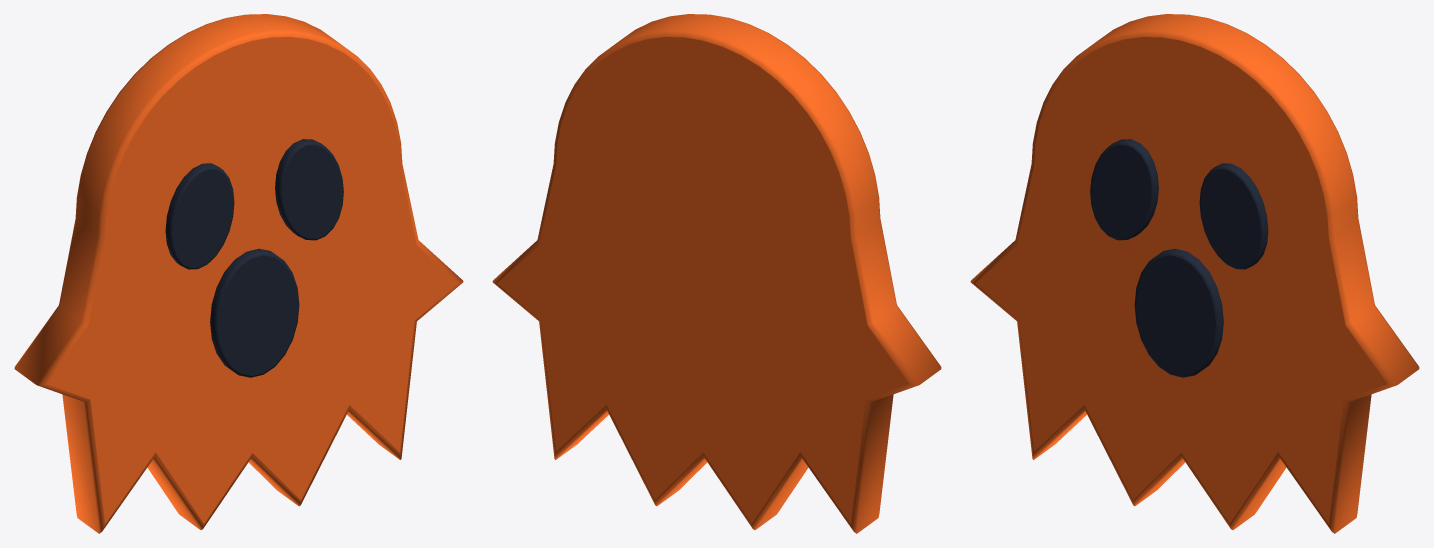
Rendered from player_ghost.glb.
3 views of the same model, side by side, from view 1: azimuth 30°, elevation 25°; view 2: azimuth 150°, elevation 25°; view 3: azimuth 330°, elevation 25° (orthographic).
Parts seen in each view (by area): view 1: Player Ghost drawn silhouette.001, Player Ghost open wail.001, Player Ghost left eye.001, Player Ghost right eye.001; view 2: Player Ghost drawn silhouette.001; view 3: Player Ghost drawn silhouette.001, Player Ghost open wail.001, Player Ghost right eye.001, Player Ghost left eye.001.
Part boxes in pixels (x1,y1,x2,y2): Player Ghost drawn silhouette.001: [14, 14, 463, 533]; Player Ghost open wail.001: [210, 248, 299, 377]; Player Ghost left eye.001: [165, 163, 234, 269]; Player Ghost right eye.001: [275, 139, 343, 240]; Player Ghost drawn silhouette.001: [492, 14, 941, 533]; Player Ghost drawn silhouette.001: [970, 14, 1419, 533]; Player Ghost open wail.001: [1134, 248, 1223, 377]; Player Ghost right eye.001: [1199, 163, 1268, 269]; Player Ghost left eye.001: [1090, 139, 1158, 240].
Size of the model in its own units: 3.25 by 3.52 by 0.4304.
